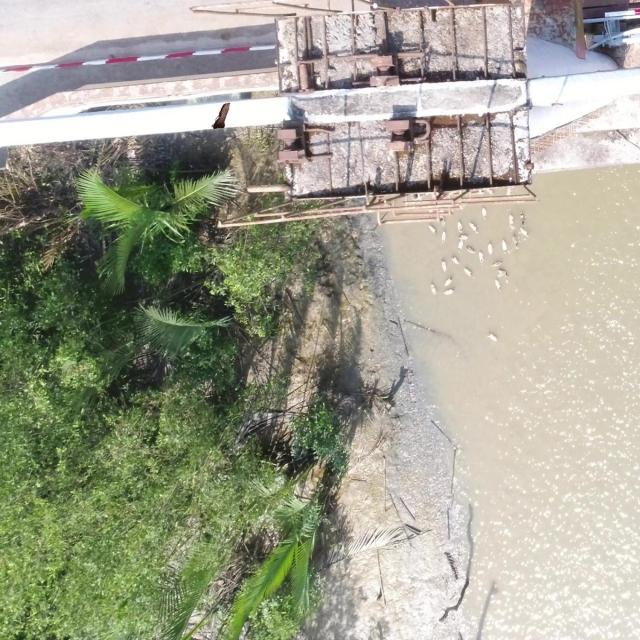corrosion: (210, 102, 232, 130)
